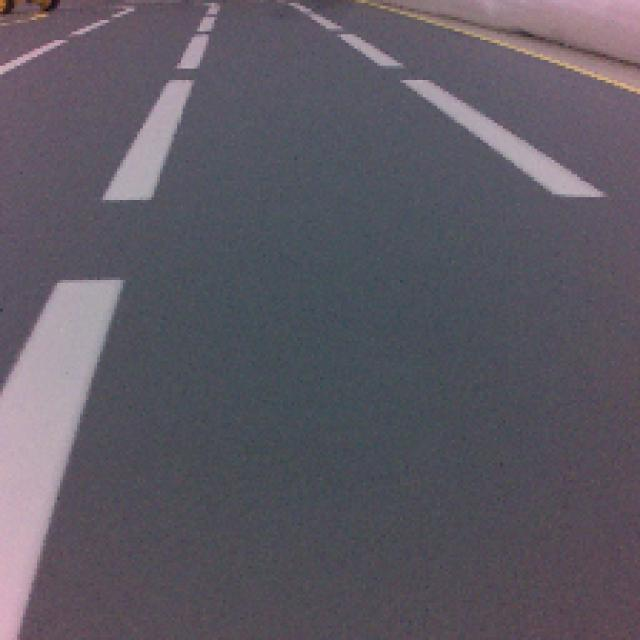Road: (16, 374, 640, 638)
